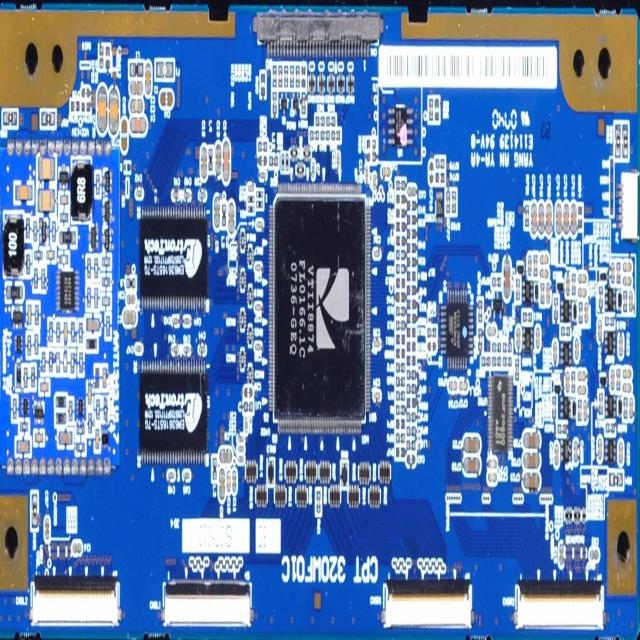Capacitor Jumper: (13, 180, 35, 204), (109, 82, 119, 134), (37, 156, 57, 182), (98, 86, 108, 134), (522, 468, 541, 493), (503, 256, 513, 300), (38, 189, 56, 213), (463, 454, 481, 478), (522, 427, 540, 450), (462, 434, 481, 454), (522, 448, 540, 468), (227, 198, 236, 235), (57, 430, 75, 448), (130, 113, 147, 132), (15, 440, 33, 457), (223, 140, 230, 182), (563, 199, 571, 235), (145, 60, 153, 96), (556, 201, 564, 235), (616, 331, 625, 361), (123, 308, 137, 327), (218, 468, 226, 501), (220, 444, 233, 464), (546, 195, 553, 232), (531, 200, 538, 237), (200, 146, 208, 178), (71, 540, 84, 559), (447, 374, 458, 396), (38, 378, 50, 398), (539, 198, 545, 237), (552, 337, 560, 366), (628, 393, 636, 422), (216, 142, 222, 179), (32, 429, 45, 446), (214, 194, 220, 230), (572, 198, 578, 234), (87, 315, 99, 333), (486, 322, 498, 340), (131, 79, 143, 97), (535, 322, 542, 352), (44, 514, 51, 544), (577, 268, 590, 284), (577, 366, 589, 383), (553, 440, 560, 469), (578, 283, 589, 301), (515, 325, 522, 353), (596, 434, 603, 462), (131, 97, 144, 112), (609, 367, 616, 394), (558, 539, 565, 566), (181, 467, 192, 484), (459, 376, 468, 396), (232, 467, 238, 497), (94, 423, 100, 452), (590, 546, 600, 563), (610, 260, 616, 288), (598, 318, 604, 346), (125, 291, 136, 306), (577, 380, 588, 395), (575, 336, 581, 363), (573, 439, 580, 462), (382, 165, 392, 181), (434, 96, 440, 122), (584, 300, 590, 326), (435, 171, 446, 185), (540, 250, 549, 267), (365, 137, 371, 162), (60, 192, 70, 207), (46, 248, 56, 263), (102, 364, 108, 389), (564, 369, 570, 394), (618, 439, 624, 464), (623, 258, 632, 274), (86, 382, 92, 406), (582, 398, 588, 422), (407, 185, 418, 198), (197, 187, 207, 201), (171, 188, 181, 202), (243, 385, 253, 399), (336, 148, 342, 171), (623, 365, 632, 380), (429, 158, 434, 184), (235, 452, 245, 465), (198, 341, 206, 357), (566, 269, 571, 294), (244, 412, 249, 437), (624, 379, 632, 394), (166, 470, 176, 482), (528, 254, 533, 277), (183, 188, 192, 200), (254, 301, 263, 313), (227, 467, 231, 494), (256, 261, 264, 274), (624, 274, 632, 287), (630, 288, 634, 314), (372, 171, 377, 191), (28, 302, 32, 326), (183, 315, 191, 327), (64, 320, 68, 344), (182, 343, 190, 355), (255, 219, 264, 229), (237, 443, 246, 453), (540, 265, 548, 276), (547, 280, 551, 302), (172, 316, 180, 327), (172, 344, 180, 355), (237, 433, 245, 444), (247, 183, 255, 193), (254, 342, 262, 352), (365, 164, 369, 183)
Connector: (31, 572, 125, 632), (513, 576, 607, 636), (379, 574, 476, 632), (160, 582, 255, 628)
Resistor Jumper: (30, 492, 40, 531), (2, 109, 18, 132), (42, 106, 56, 130), (609, 470, 624, 491), (514, 273, 522, 307), (597, 280, 605, 313), (94, 169, 102, 199), (101, 251, 113, 271), (102, 288, 112, 312), (86, 409, 94, 439), (604, 417, 616, 437), (556, 419, 568, 439), (552, 294, 560, 323), (520, 308, 534, 324), (39, 346, 47, 374), (69, 349, 77, 377), (597, 388, 605, 416), (105, 312, 112, 343), (514, 355, 521, 386), (26, 329, 33, 359), (604, 313, 616, 330), (559, 324, 571, 341), (19, 417, 31, 434), (551, 392, 558, 420), (491, 273, 503, 289), (394, 389, 406, 405), (75, 422, 87, 438), (85, 255, 92, 282), (48, 316, 54, 347), (571, 271, 578, 297), (48, 349, 55, 375), (256, 138, 268, 153), (452, 186, 458, 216), (407, 265, 417, 283), (622, 394, 628, 424), (480, 353, 491, 369), (394, 402, 405, 418), (103, 396, 109, 425), (68, 396, 74, 425), (99, 43, 105, 72), (408, 237, 418, 254), (503, 338, 513, 355), (272, 90, 278, 118), (428, 95, 434, 123), (268, 154, 280, 168), (445, 188, 451, 216), (394, 204, 406, 218), (33, 264, 39, 292), (12, 392, 18, 420), (272, 63, 278, 91), (435, 155, 446, 170), (59, 210, 70, 225), (396, 218, 407, 233), (395, 374, 406, 389), (102, 272, 111, 290), (94, 284, 100, 311), (478, 327, 484, 354), (30, 362, 36, 389), (310, 126, 320, 142), (406, 421, 416, 437), (396, 428, 406, 444), (76, 439, 86, 455), (395, 192, 407, 205), (540, 282, 546, 308), (622, 289, 628, 315), (578, 301, 584, 327), (34, 302, 40, 328), (426, 325, 438, 338), (55, 320, 61, 346), (571, 370, 577, 396), (290, 62, 296, 88), (283, 65, 289, 91), (319, 128, 330, 142), (407, 198, 418, 212), (397, 234, 408, 248), (396, 248, 407, 262), (395, 361, 406, 375), (406, 367, 417, 381), (33, 248, 43, 263), (396, 445, 406, 460), (579, 204, 584, 233), (315, 114, 326, 127), (407, 254, 418, 267), (406, 284, 417, 297), (331, 128, 341, 142), (258, 168, 268, 182), (407, 212, 417, 226), (396, 304, 406, 318), (70, 318, 75, 346), (34, 329, 39, 357), (492, 340, 502, 354), (80, 348, 85, 376), (77, 323, 83, 346), (60, 251, 68, 268), (408, 310, 417, 325), (326, 116, 337, 128), (396, 318, 407, 330), (492, 357, 503, 369), (243, 400, 254, 412), (372, 137, 377, 163), (33, 218, 38, 244), (26, 251, 31, 277), (617, 258, 622, 284), (396, 275, 406, 288), (87, 284, 92, 310), (478, 298, 483, 324), (395, 347, 405, 360), (406, 381, 416, 394), (408, 224, 416, 240), (406, 352, 414, 368), (617, 368, 623, 389), (94, 253, 99, 278), (396, 292, 407, 303), (396, 180, 406, 192), (396, 262, 406, 274), (428, 342, 438, 354), (64, 347, 68, 377), (407, 410, 416, 423), (56, 347, 60, 376), (41, 264, 45, 292), (409, 298, 417, 312), (578, 397, 582, 425), (407, 436, 415, 450), (407, 325, 416, 337), (285, 153, 290, 174), (256, 185, 264, 198), (26, 216, 30, 242), (397, 332, 405, 345), (503, 357, 513, 367), (247, 203, 255, 215), (408, 339, 416, 351), (97, 395, 101, 419), (278, 64, 282, 88), (296, 64, 300, 88), (312, 157, 316, 180), (24, 368, 28, 391), (396, 421, 406, 430), (52, 223, 56, 244), (248, 194, 256, 204), (256, 199, 264, 209), (282, 153, 286, 172), (134, 187, 135, 187)
